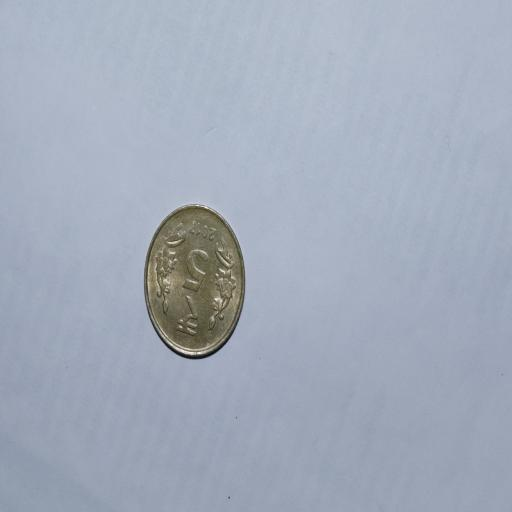rupee5: (141, 200, 250, 363)
